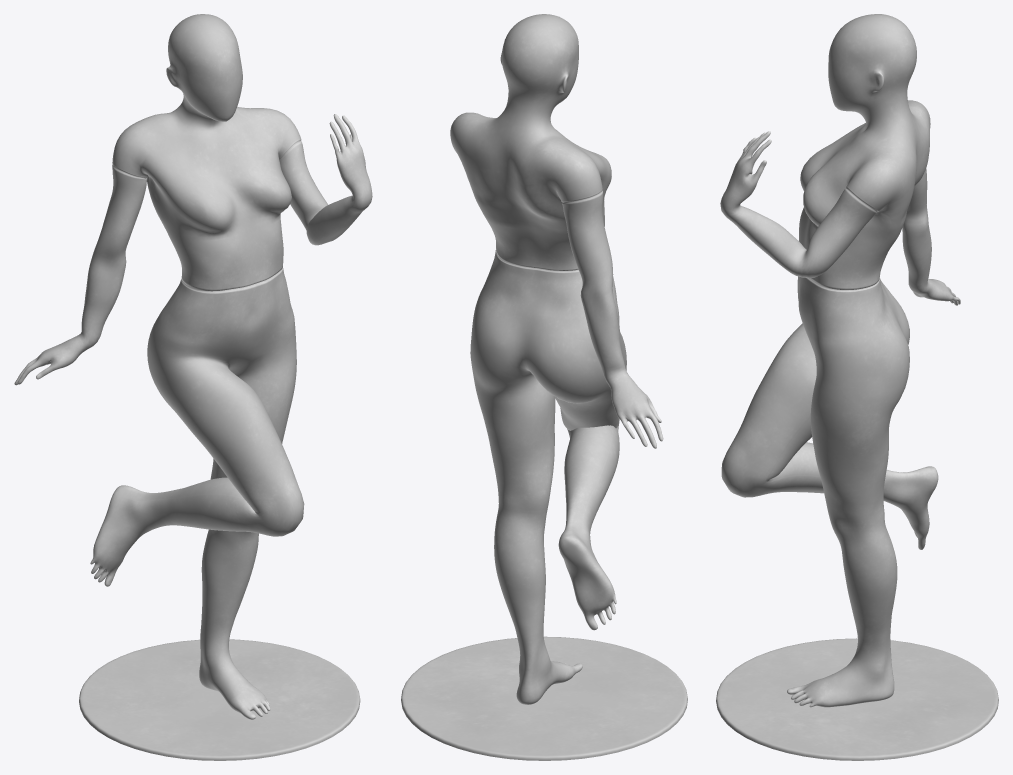
The model's file is manequin.glb.
3 views of the same model, side by side, from view 1: azimuth 30°, elevation 25°; view 2: azimuth 150°, elevation 25°; view 3: azimuth 270°, elevation 25° (orthographic).
Parts seen in each view (by area): view 1: Female Mannequin Dynamic; view 2: Female Mannequin Dynamic; view 3: Female Mannequin Dynamic.
Part boxes in pixels (x1,y1,x2,y2): Female Mannequin Dynamic: (14,14,372,760); Female Mannequin Dynamic: (401,14,687,760); Female Mannequin Dynamic: (716,14,998,760).
Size of the model in its own units: 0.7502 by 1.73 by 0.6505.
1 material, 1 textured.
